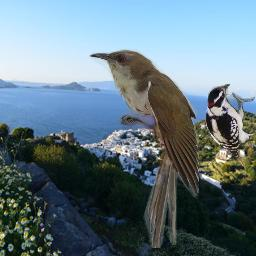Cuckoo: (89, 48, 199, 248)
Woodpecker: (206, 84, 256, 161)
